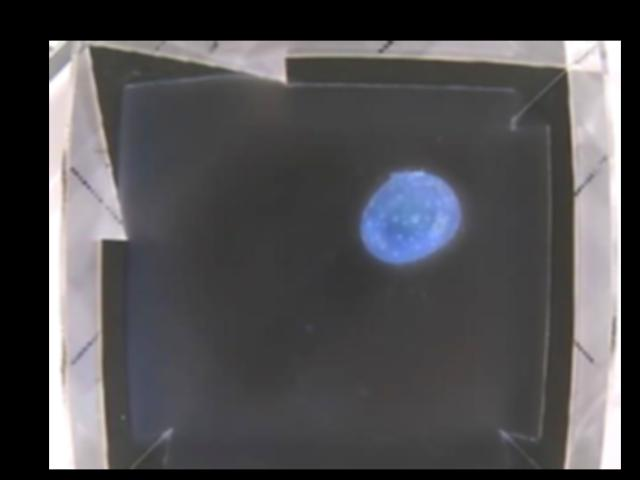Potato: (359, 171, 461, 263)
